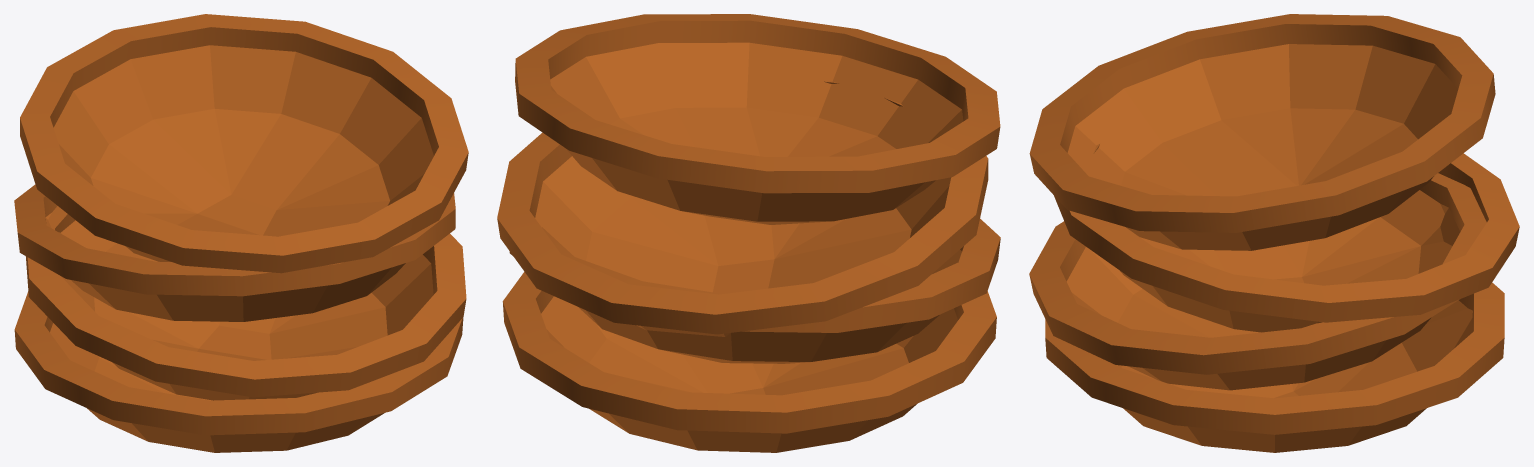
The model's file is SM_pottery_stacked_03.fbx.
3 views of the same model, side by side, from view 1: azimuth 30°, elevation 25°; view 2: azimuth 150°, elevation 25°; view 3: azimuth 270°, elevation 25° (orthographic). The views are drawn at different scales.
Parts seen in each view (by area): view 1: Cylinder067; view 2: Cylinder067; view 3: Cylinder067.
Boxes of the visible parts, x1=… form: Cylinder067: x1=14, y1=14, x2=468, y2=452; Cylinder067: x1=497, y1=14, x2=1000, y2=452; Cylinder067: x1=1029, y1=14, x2=1519, y2=452.
Bounding box in the file's own units: 28.17 × 22.26 × 29.33.
